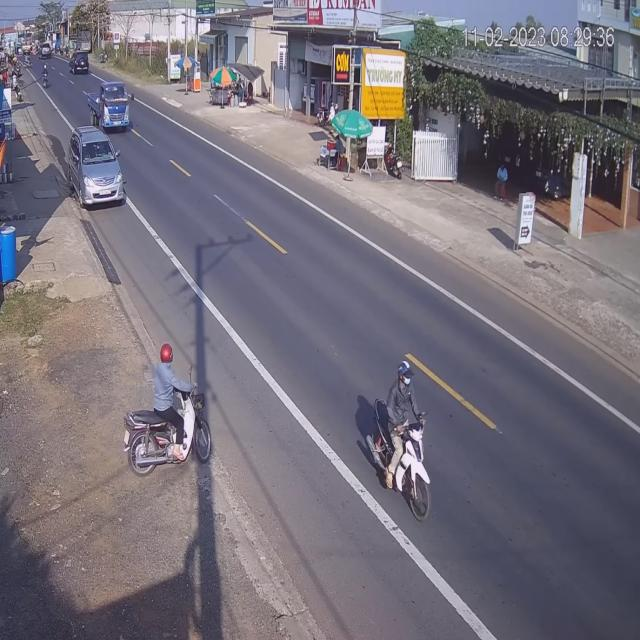car: (68, 125, 124, 209), (71, 51, 89, 76)
motorbike: (121, 350, 214, 477), (368, 354, 428, 518)
truck: (91, 80, 130, 134)
